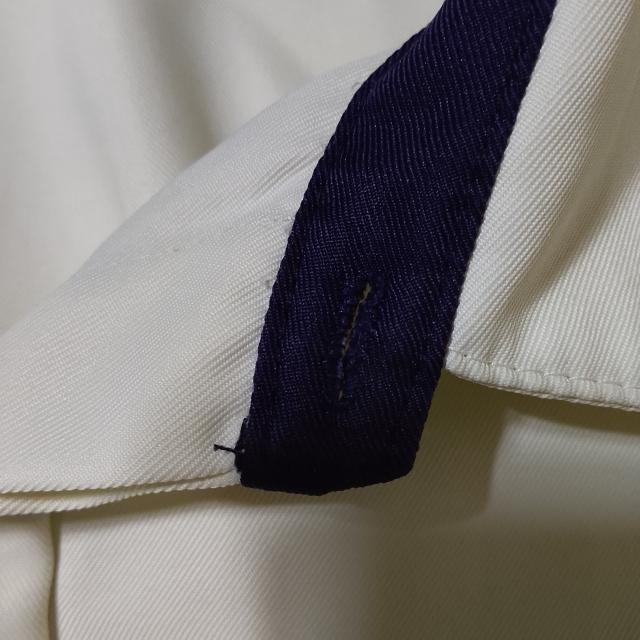education_male_uniform: (114, 30, 638, 555)
